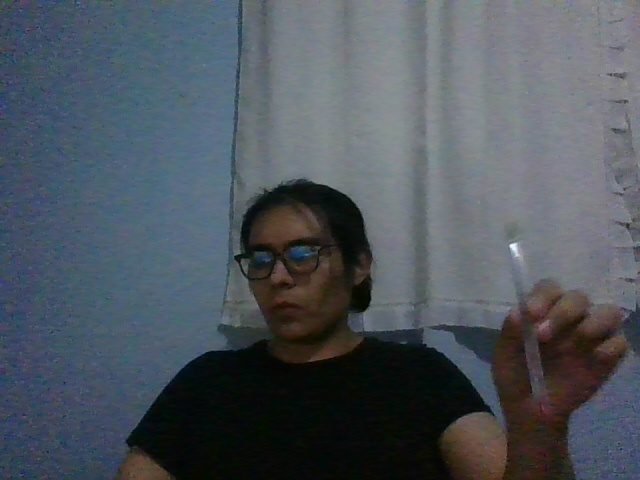pluma: (504, 223, 550, 417)
